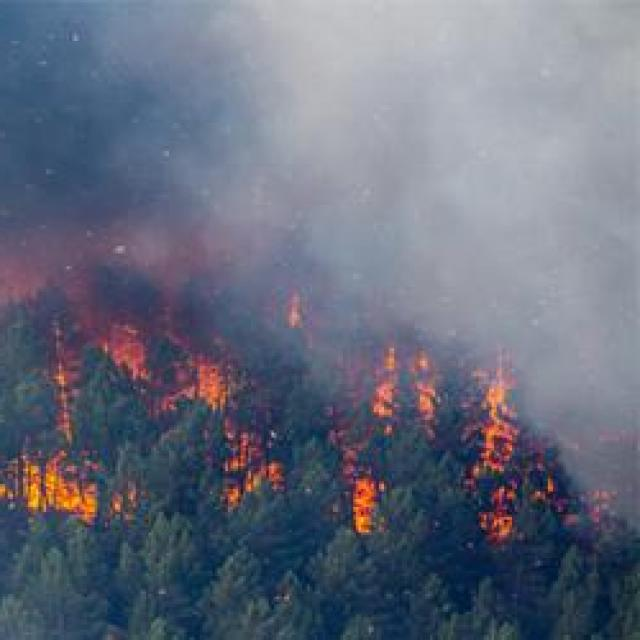smoke: (302, 3, 596, 267), (5, 0, 291, 262), (458, 168, 634, 364), (552, 368, 640, 500)
